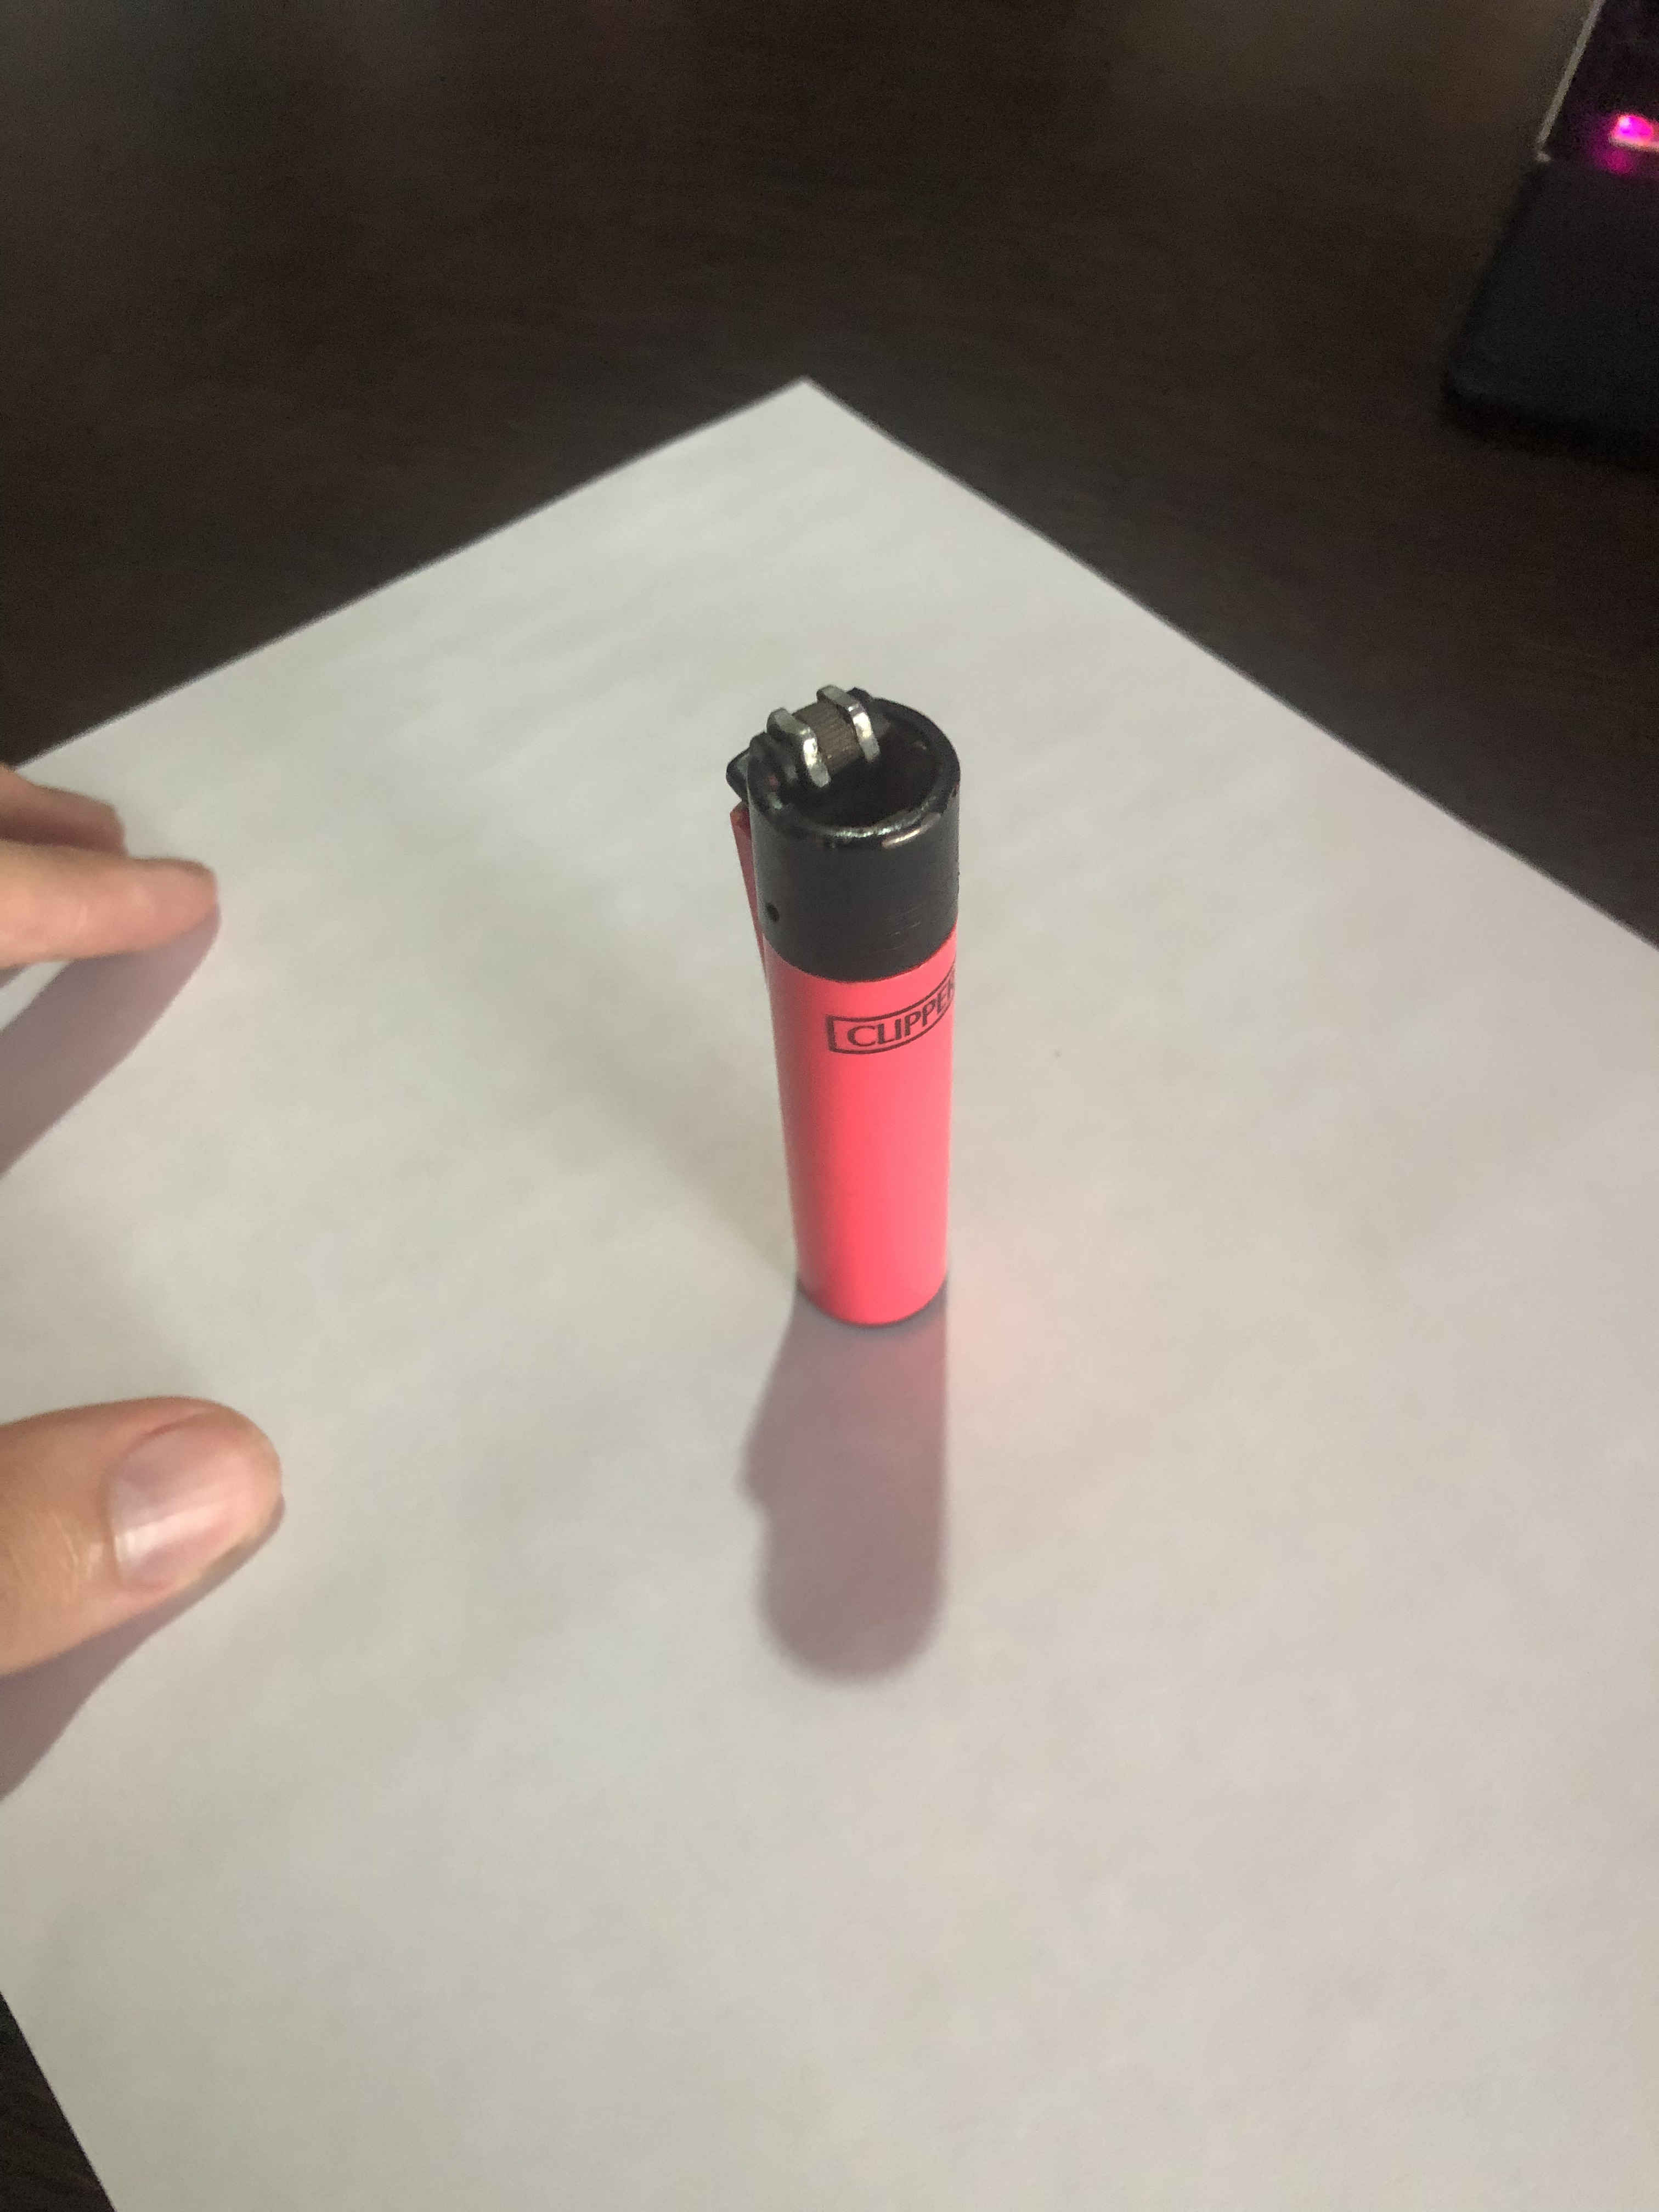Mechero: (690, 702, 999, 1338)
